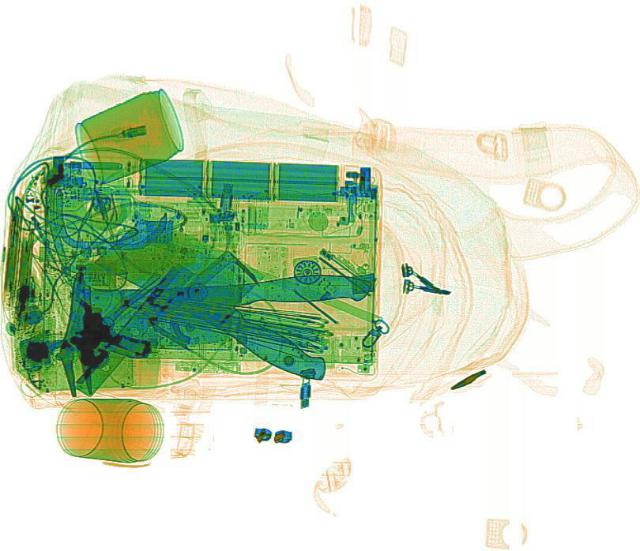Knife: (91, 207, 365, 386), (66, 270, 377, 349)
